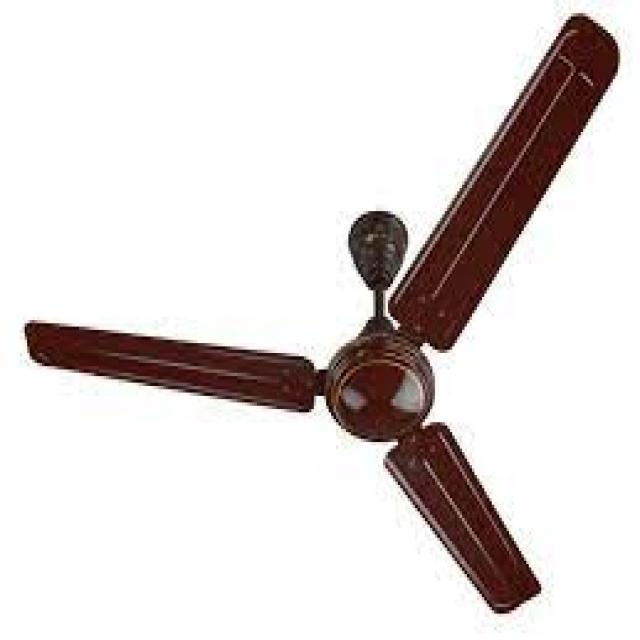fan_off: (20, 10, 620, 614)
